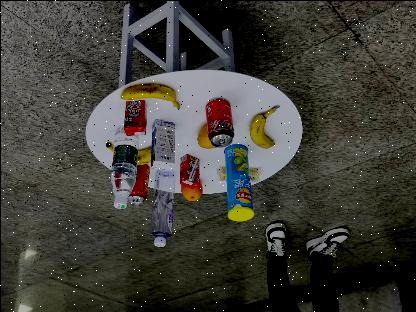Can: (203, 96, 234, 146)
Others: (222, 144, 254, 224), (150, 113, 178, 165), (119, 98, 145, 136), (178, 152, 200, 190)
Plastic Bottle: (108, 120, 134, 209), (151, 166, 177, 246)
